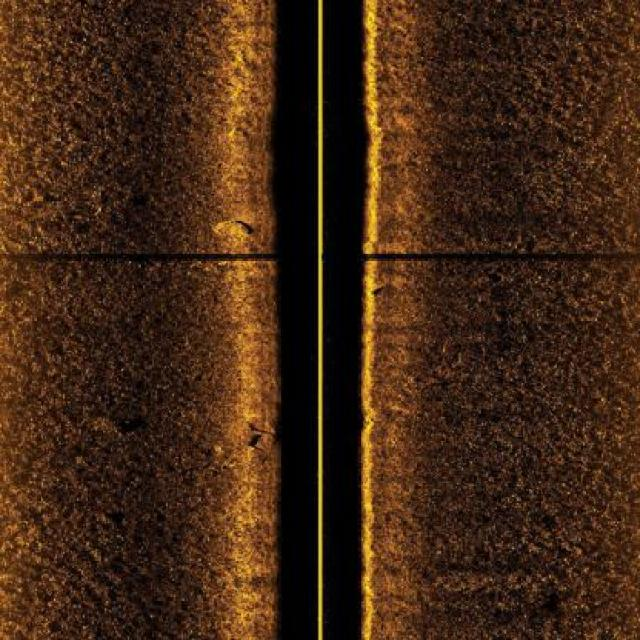mine: (365, 282, 386, 295)
other: (208, 211, 255, 240)
